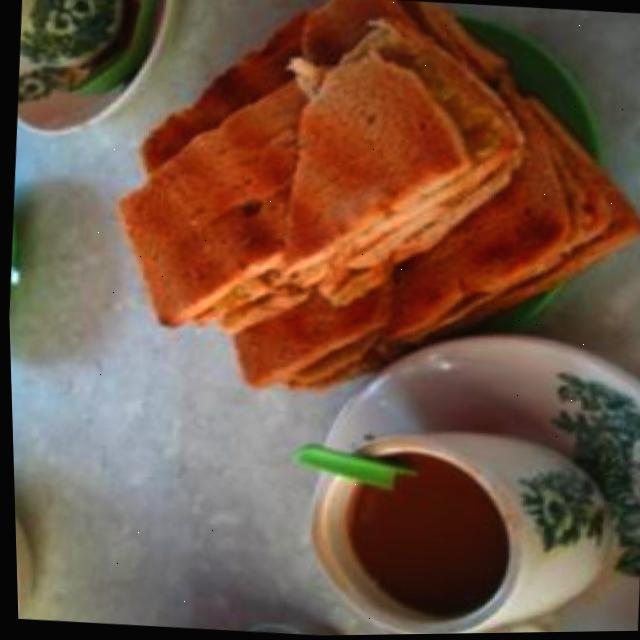面包点心: (101, 0, 640, 441)
